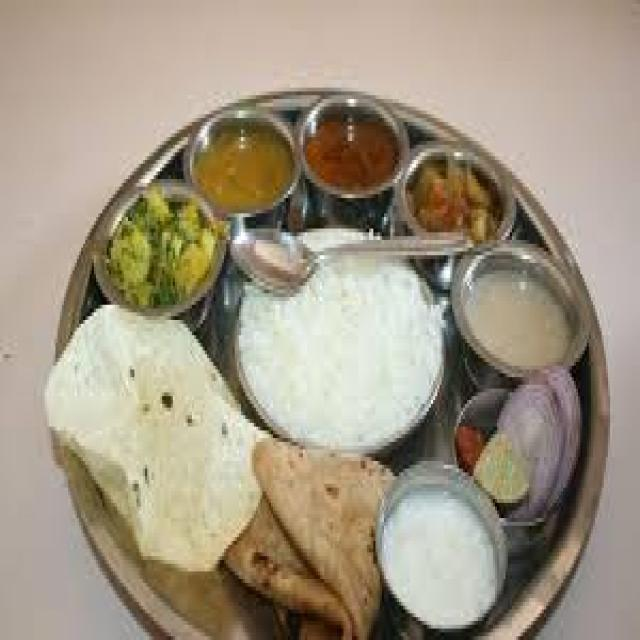curd: (374, 469, 511, 637)
dal: (458, 259, 583, 381)
papad: (57, 302, 267, 552), (234, 240, 432, 466)
rice: (236, 231, 446, 468)
sambar-rasam: (300, 97, 407, 218), (190, 111, 299, 226)
